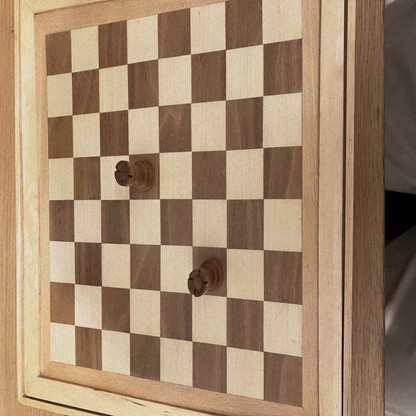rock_black: (115, 161, 155, 192), (188, 260, 223, 295)
